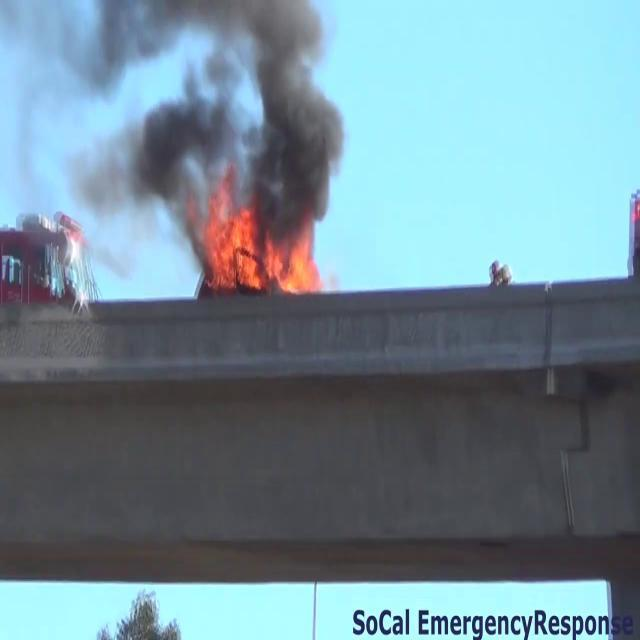Fire: (202, 204, 322, 298)
Smoke: (28, 1, 353, 234)
